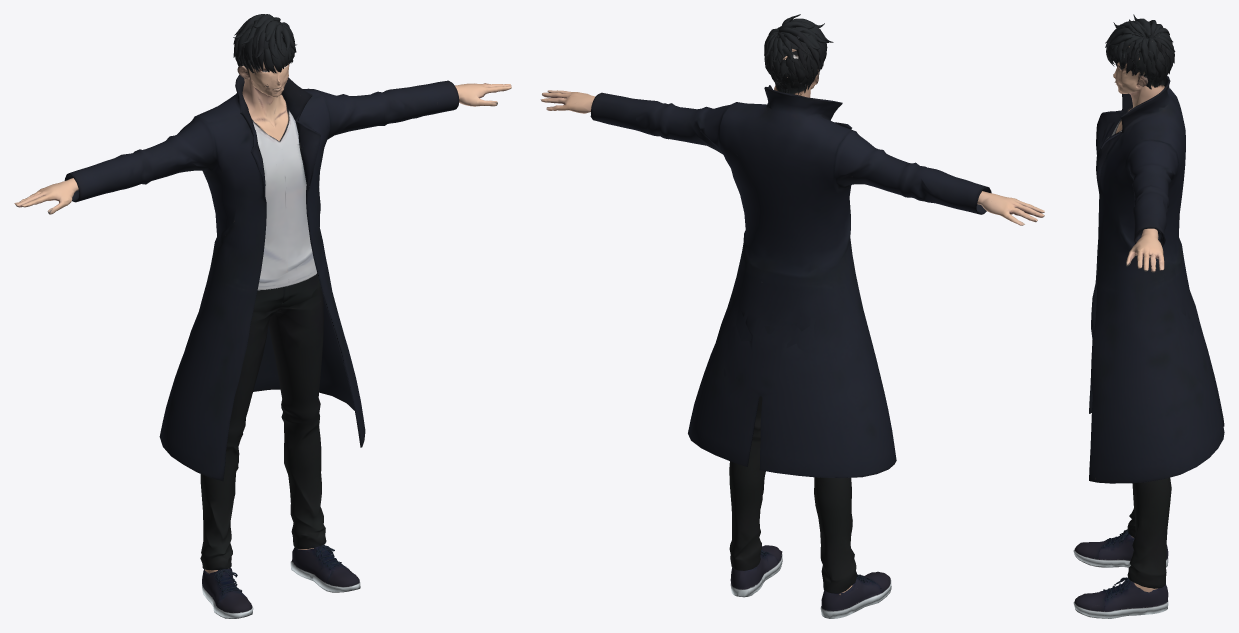
Rendered from jinwoo-model-v1.glb.
3 renders of one model, left to right at view 1: azimuth 30°, elevation 25°; view 2: azimuth 150°, elevation 25°; view 3: azimuth 270°, elevation 25°, orthographic.
Parts seen in each view (by area): view 1: geometry_0; view 2: geometry_0; view 3: geometry_0.
Boxes of the visible parts, <box> form: geometry_0: <box>14,14,511,618</box>; geometry_0: <box>540,14,1044,618</box>; geometry_0: <box>1073,14,1224,618</box>.
Bounding box in the file's own units: 0.8628 × 0.9507 × 0.229.
Materials: 1 (1 with a texture image).
